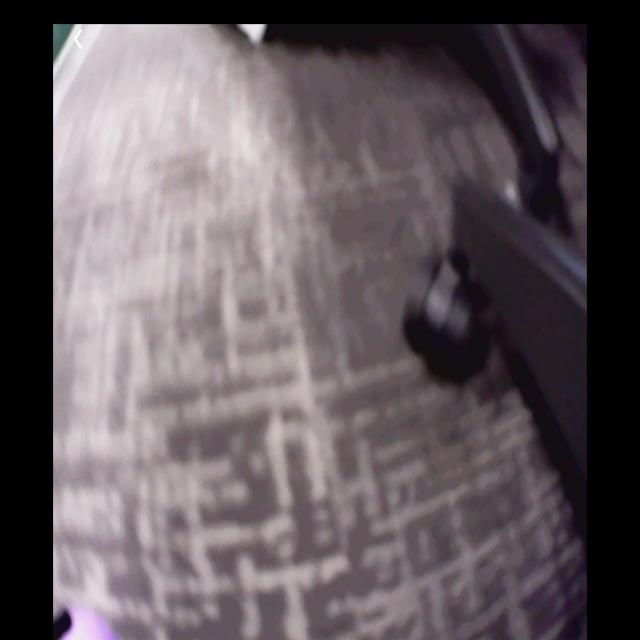ball: (54, 604, 119, 640)
